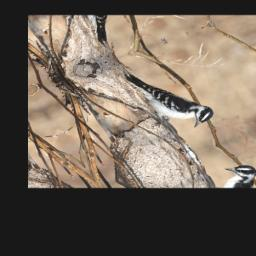Woodpecker: (115, 55, 220, 140)
